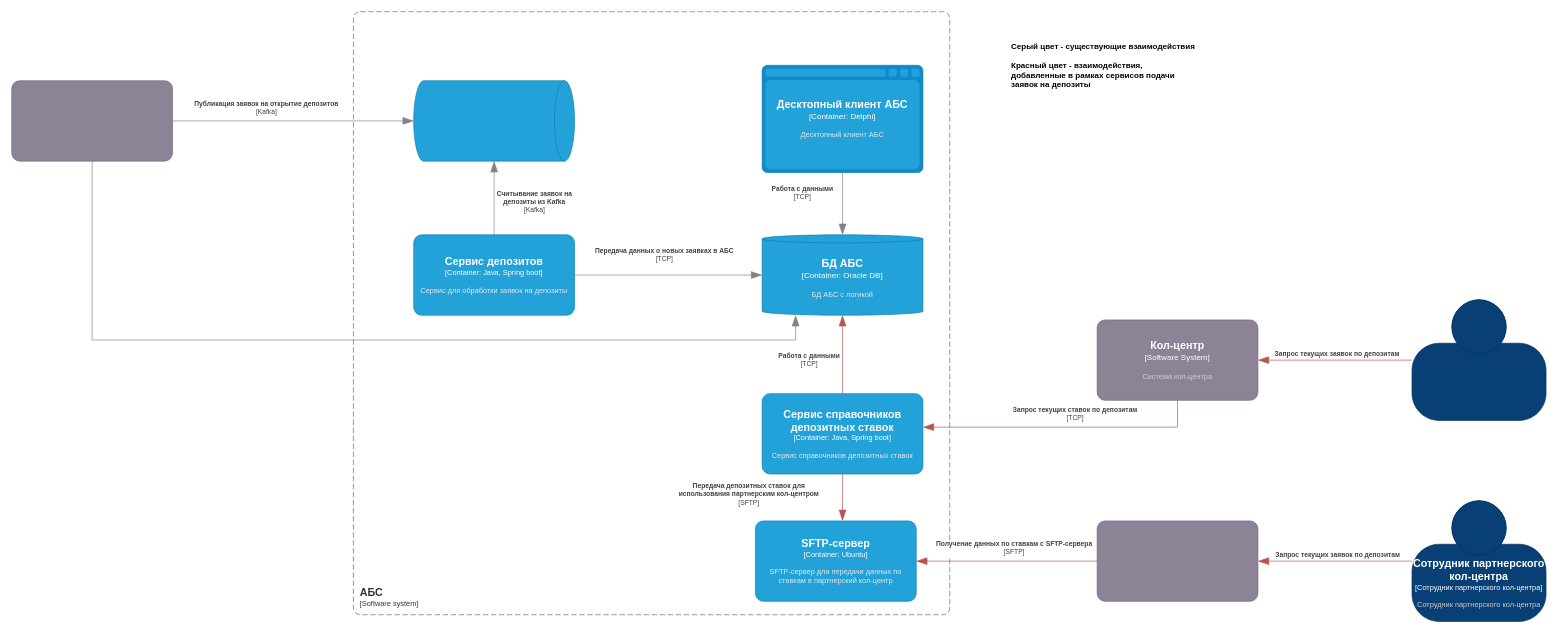
Image size: 1558x633. Some labels were removed from this diagram. The centre of each missing label's shape, as x and y in pixels:
Apache Kafka [Container: Apache Kafka] Брокер сообщений для депозитов: the point at 494,120
Интернет-банк [Software System] Интернет-банк: the point at 92,120
Партнерский кол-центр [Software System] Партнерский кол-центр: the point at 1177,560
Сотрудник кол-центра [Сотрудник кол-центра] Сотрудник кол-центра: the point at 1478,359
